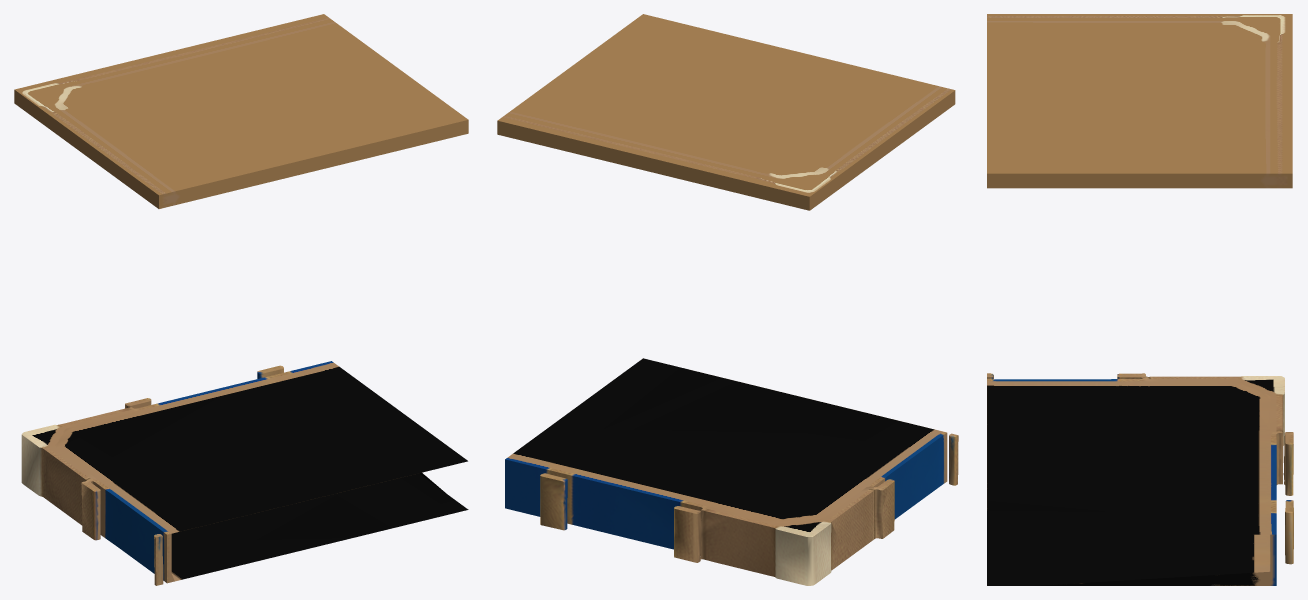
File: 11-roof-back-left.fbx
3 views of the same model, side by side, from view 1: azimuth 30°, elevation 25°; view 2: azimuth 150°, elevation 25°; view 3: azimuth 270°, elevation 25° (orthographic). The views are drawn at different scales.
Visible parts, largest first — view 1: roof-back-left; view 2: roof-back-left; view 3: roof-back-left.
Part boxes in pixels (bbox=[...]): roof-back-left: bbox=[14, 14, 468, 585]; roof-back-left: bbox=[497, 14, 958, 585]; roof-back-left: bbox=[987, 14, 1293, 585].
Size of the model in its own units: 4717 by 5621 by 3792.
1 material, 1 textured.
